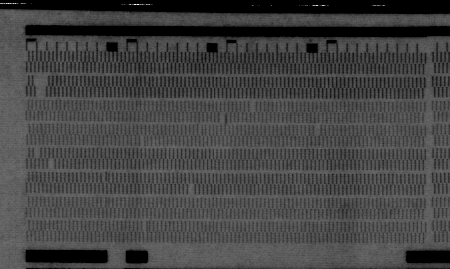Broken hole: (32, 74, 51, 97), (311, 124, 323, 138), (217, 111, 229, 124), (32, 148, 44, 159), (46, 159, 57, 171), (186, 183, 197, 195), (248, 101, 259, 113)
Oblique printing: (100, 172, 111, 186), (140, 221, 151, 232)
